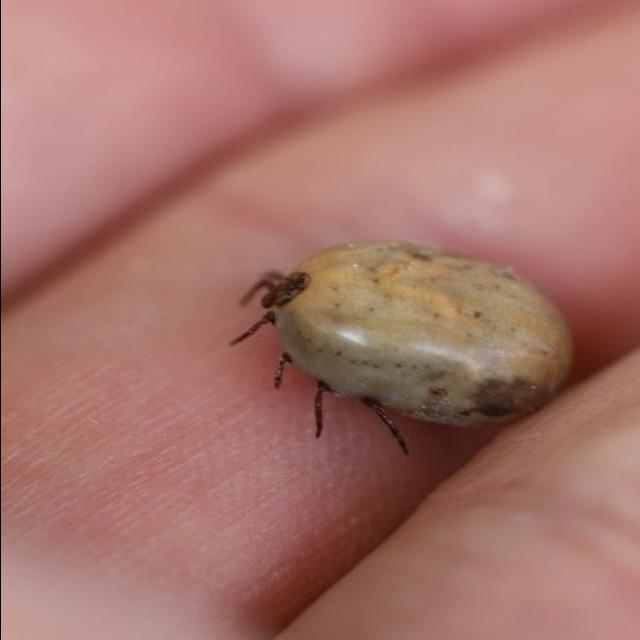Dermacentor Reticulatus-F-Fed: (229, 240, 577, 456)
